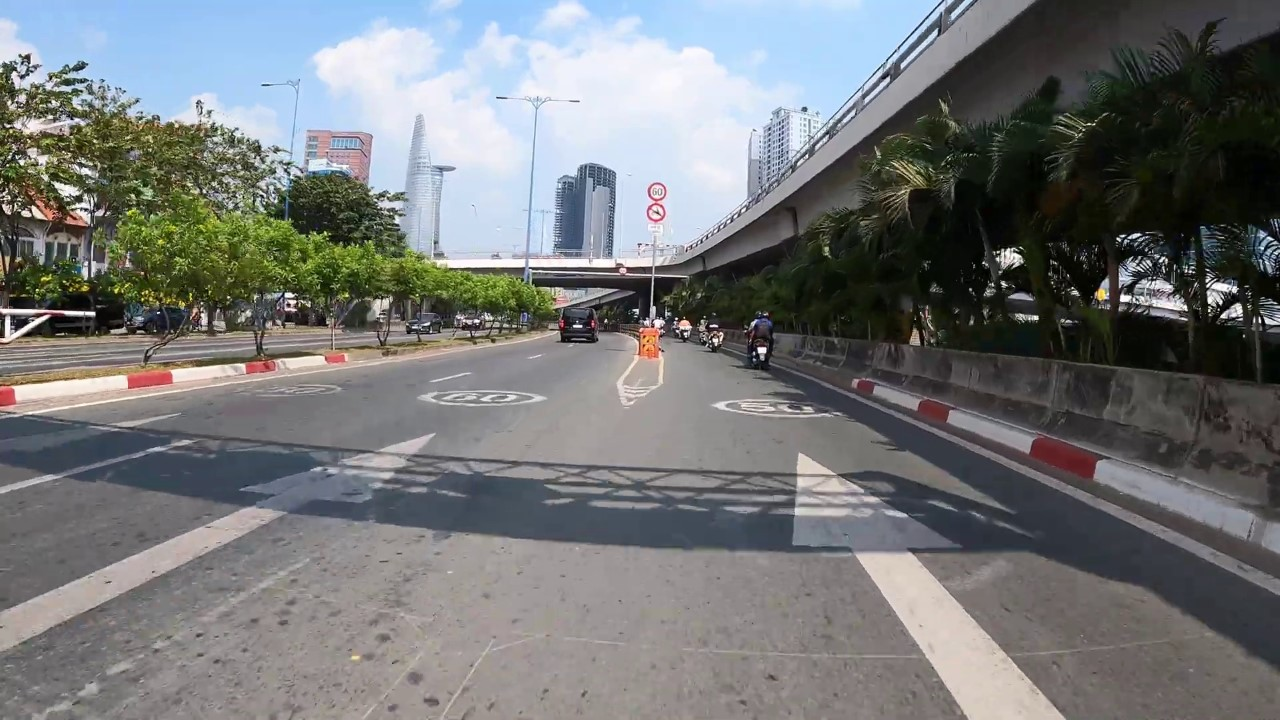gioi_han_60km: (647, 182, 668, 202)
